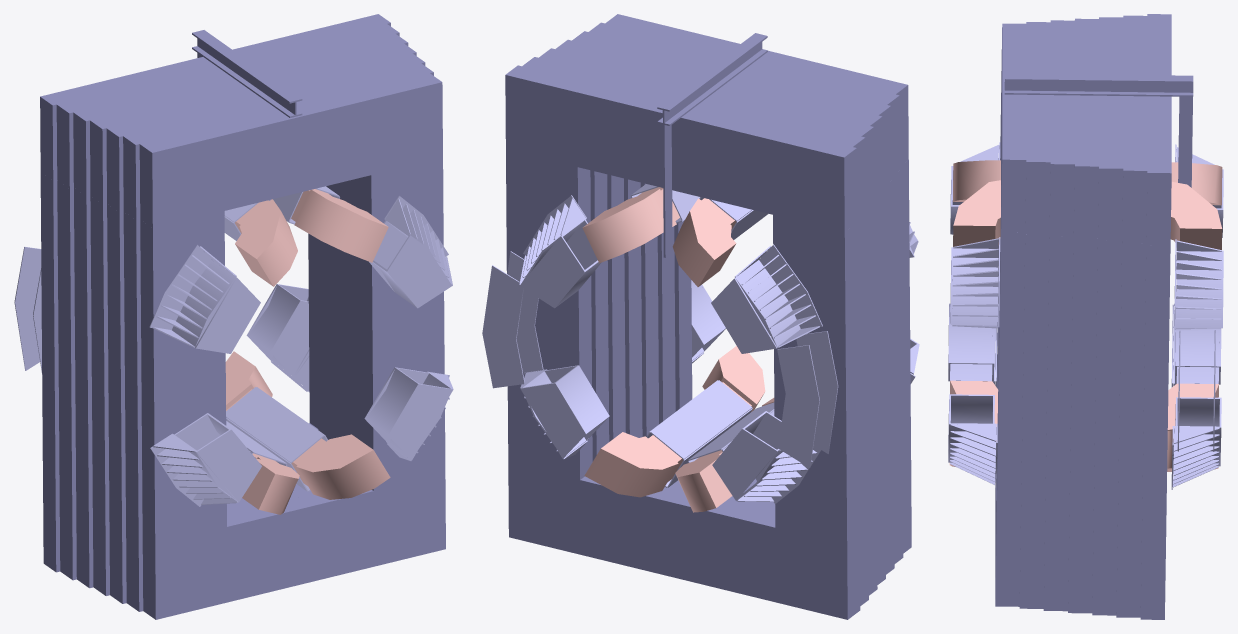
The model's file is g5_mag_dipole.glb.
3 views of the same model, side by side, from view 1: azimuth 30°, elevation 25°; view 2: azimuth 150°, elevation 25°; view 3: azimuth 270°, elevation 25° (orthographic). The views are drawn at different scales.
Parts seen in each view (by area): view 1: Mesh_32; view 2: Mesh_32; view 3: Mesh_32.
Part boxes in pixels (left/top/right/bottom): Mesh_32: left=14, top=14, right=453, bottom=619; Mesh_32: left=482, top=14, right=919, bottom=619; Mesh_32: left=948, top=14, right=1223, bottom=619.
Bounding box in the file's own units: 688 × 935 × 503.
